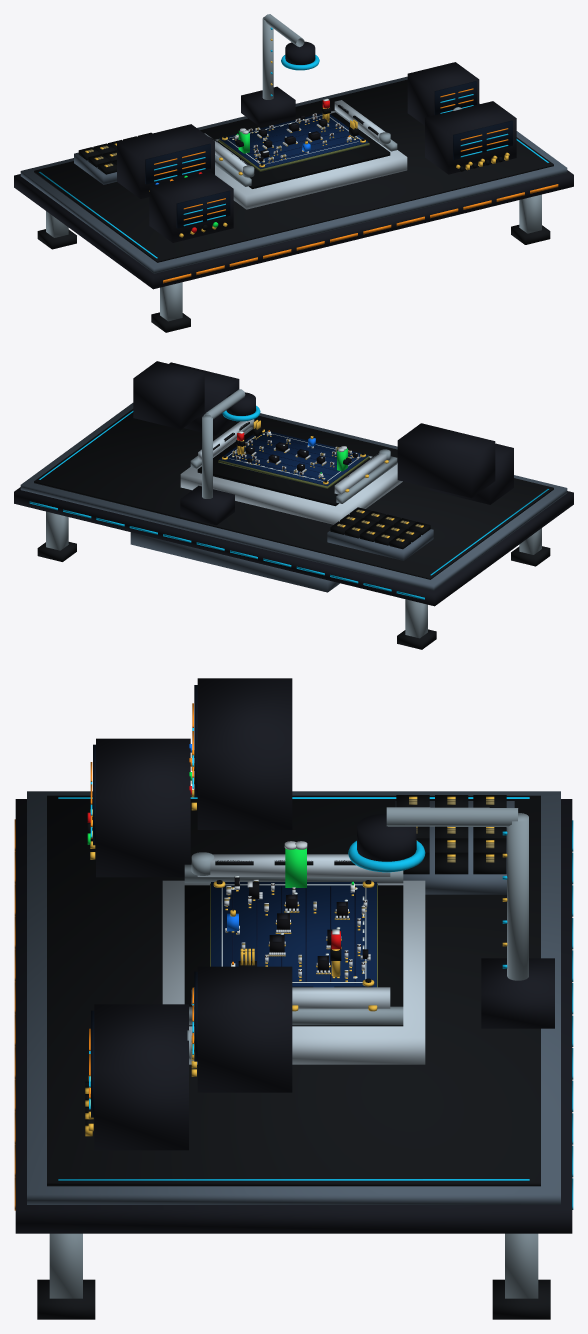
Rendered from L95_PulseArchitect_CompleteShowcase.fbx.
The picture shows the model from 3 angles, top to bottom: view 1: azimuth 30°, elevation 25°; view 2: azimuth 150°, elevation 25°; view 3: azimuth 270°, elevation 25°; orthographic projection. The views are drawn at different scales.
Visible parts, largest first — view 1: L95_ESDAntiStaticWorktop, L95_PrecisionWorkBenchFrame, L95_TimingPCBFixtureBase, L95_DigitalLogicAnalyzer, L95_FourChannelOscilloscope, L95_Protected5VBenchSupply, L95_TopNavySoldermask, L95_PrecisionDigitalMultimeter, L95_InspectionMicroscopeGantry, L95_PartsAndReworkTray, L95_ClampingJawRight_Part_0000, L95_MicroscopeFocusLens_Part_0000 (+3 smaller); view 2: L95_ESDAntiStaticWorktop, L95_PrecisionWorkBenchFrame, L95_TimingPCBFixtureBase, L95_FourChannelOscilloscope, L95_PrecisionDigitalMultimeter, L95_PartsAndReworkTray, L95_TopNavySoldermask, L95_InspectionMicroscopeGantry, L95_DigitalLogicAnalyzer, L95_Protected5VBenchSupply, L95_ClampingJawLeft_Part_0000, L95_FR4PrecisionBoardCore (+3 smaller); view 3: L95_ESDAntiStaticWorktop, L95_PrecisionWorkBenchFrame, L95_TimingPCBFixtureBase, L95_FourChannelOscilloscope, L95_DigitalLogicAnalyzer, L95_Protected5VBenchSupply, L95_PrecisionDigitalMultimeter, L95_TopNavySoldermask, L95_InspectionMicroscopeGantry, L95_PartsAndReworkTray, L95_ClampingJawLeft_Part_0000, L95_InspectionMicroscopeGantry_Part_0002 (+4 smaller).
Part boxes in pixels (x1,y1,x2,y2): L95_ESDAntiStaticWorktop: (20,76,567,273); L95_PrecisionWorkBenchFrame: (14,170,573,332); L95_TimingPCBFixtureBase: (215,110,407,209); L95_DigitalLogicAnalyzer: (425,101,516,174); L95_FourChannelOscilloscope: (117,124,214,198); L95_Protected5VBenchSupply: (149,171,233,242); L95_TopNavySoldermask: (219,113,368,169); L95_PrecisionDigitalMultimeter: (407,62,479,125); L95_InspectionMicroscopeGantry: (241,16,295,126); L95_PartsAndReworkTray: (74,132,152,184); L95_ClampingJawRight_Part_0000: (334,100,385,144); L95_MicroscopeFocusLens_Part_0000: (285,41,315,64); L95_ESDAntiStaticWorktop: (20,403,567,590); L95_PrecisionWorkBenchFrame: (14,487,573,649); L95_TimingPCBFixtureBase: (180,427,402,524); L95_FourChannelOscilloscope: (397,423,495,498); L95_PrecisionDigitalMultimeter: (133,361,204,429); L95_PartsAndReworkTray: (327,507,433,560); L95_TopNavySoldermask: (219,430,368,486); L95_InspectionMicroscopeGantry: (180,415,234,525); L95_DigitalLogicAnalyzer: (169,362,239,435); L95_Protected5VBenchSupply: (429,443,513,504); L95_ClampingJawLeft_Part_0000: (334,453,386,494); L95_FR4PrecisionBoardCore: (218,428,369,488); L95_ESDAntiStaticWorktop: (27,791,560,1204); L95_PrecisionWorkBenchFrame: (14,799,573,1319); L95_TimingPCBFixtureBase: (162,864,425,1064); L95_FourChannelOscilloscope: (189,678,292,829); L95_DigitalLogicAnalyzer: (85,1004,188,1150); L95_Protected5VBenchSupply: (87,738,190,877); L95_PrecisionDigitalMultimeter: (192,966,292,1092); L95_TopNavySoldermask: (211,882,376,987); L95_InspectionMicroscopeGantry: (481,813,554,1028); L95_PartsAndReworkTray: (395,795,514,894); L95_ClampingJawLeft_Part_0000: (197,854,390,876); L95_InspectionMicroscopeGantry_Part_0002: (386,807,518,827).
Bounding box in the file's own units: 555 × 223 × 319.
